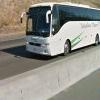Bus: (14, 0, 99, 59)
